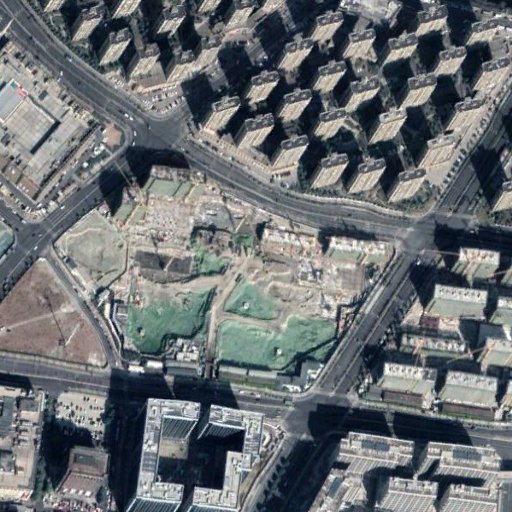cw: (50, 201, 342, 389)
